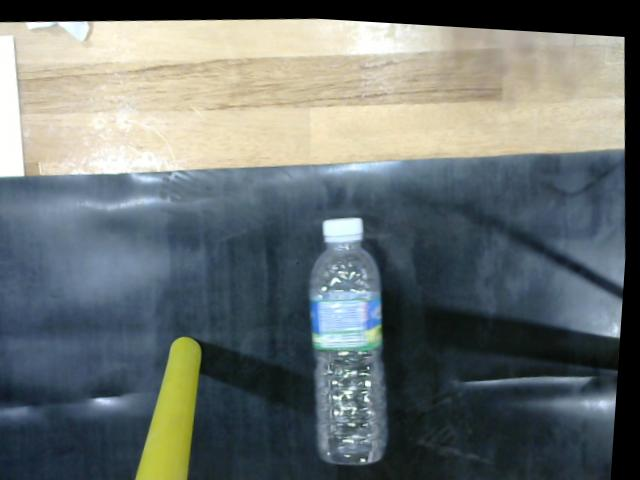bottle: (306, 198, 395, 471)
